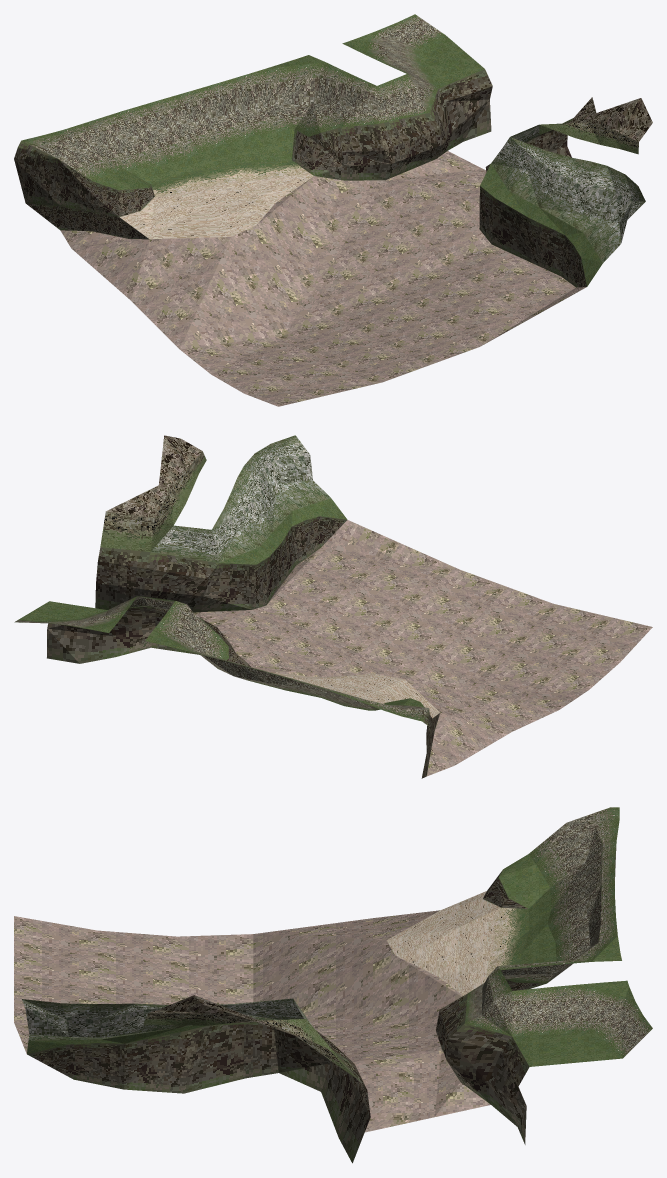
Rendered from lodcunteground04.obj.
The picture shows the model from 3 angles, top to bottom: view 1: azimuth 30°, elevation 25°; view 2: azimuth 150°, elevation 25°; view 3: azimuth 270°, elevation 25°; orthographic projection. The views are drawn at different scales.
Parts seen in each view (by area): view 1: LODcuntEground04; view 2: LODcuntEground04; view 3: LODcuntEground04.
Part boxes in pixels (left/top/right/bottom): LODcuntEground04: left=14, top=14, right=652, bottom=406; LODcuntEground04: left=14, top=435, right=652, bottom=778; LODcuntEground04: left=14, top=807, right=652, bottom=1163.
Bounding box in the file's own units: 267 × 96.62 × 264.
Materials: 9 (9 with a texture image).
